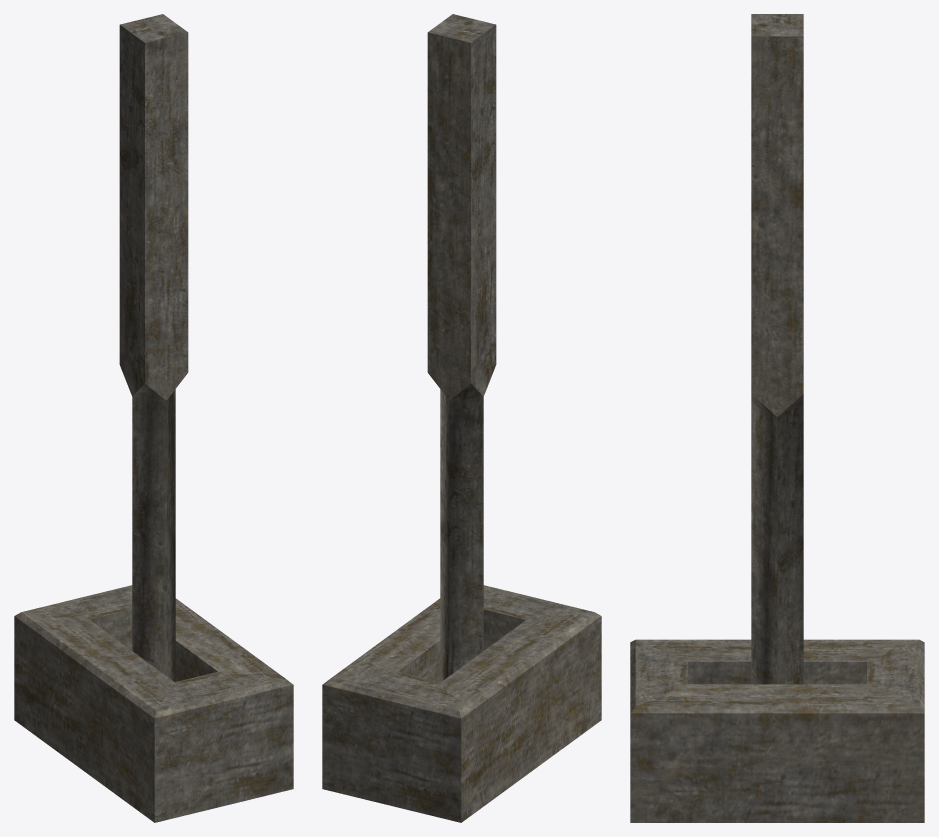
Rendered from lever_1.fbx.
3 renders of one model, left to right at view 1: azimuth 30°, elevation 25°; view 2: azimuth 150°, elevation 25°; view 3: azimuth 270°, elevation 25°, orthographic. The views are drawn at different scales.
Visible parts, largest first — view 1: lever_1a, lever_1b; view 2: lever_1a, lever_1b; view 3: lever_1a, lever_1b.
Part boxes in pixels (x1,y1,x2,y2): lever_1a: [14, 585, 293, 822]; lever_1b: [119, 14, 188, 681]; lever_1a: [322, 585, 601, 822]; lever_1b: [427, 14, 496, 681]; lever_1a: [630, 639, 924, 822]; lever_1b: [751, 14, 803, 684].
Bounding box in the file's own units: 8 × 40 × 14.
